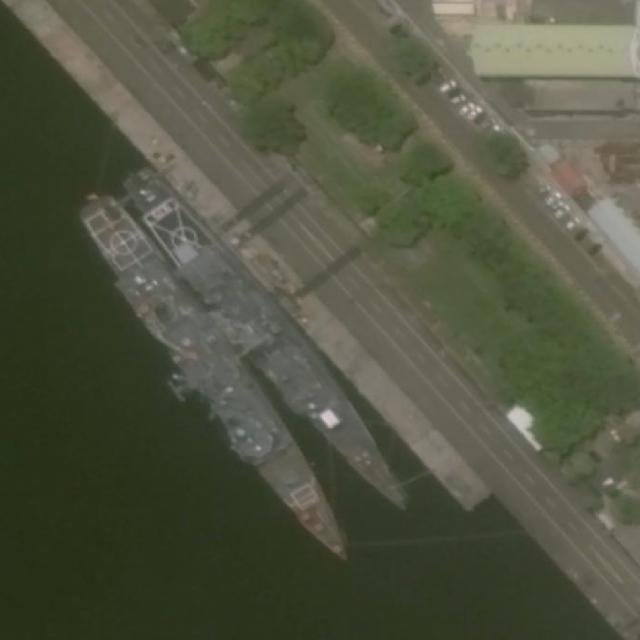Frigate: (72, 185, 368, 573), (116, 154, 423, 527)
